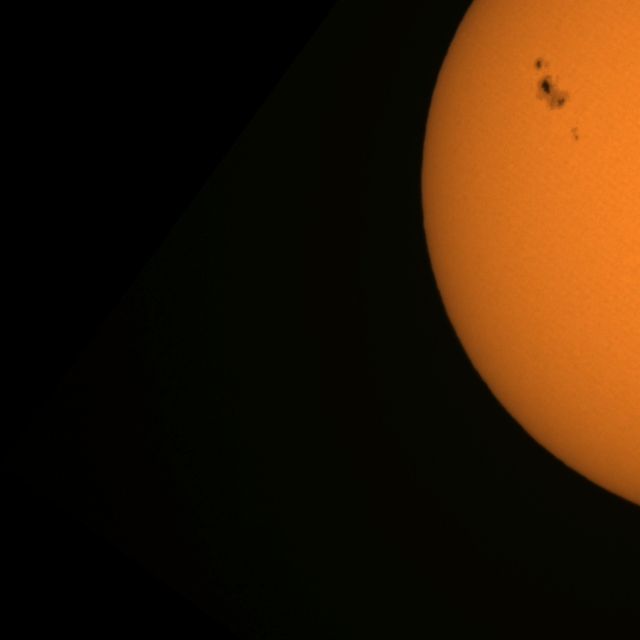sunspot: (534, 66, 570, 113), (525, 49, 551, 77), (570, 125, 580, 143)
